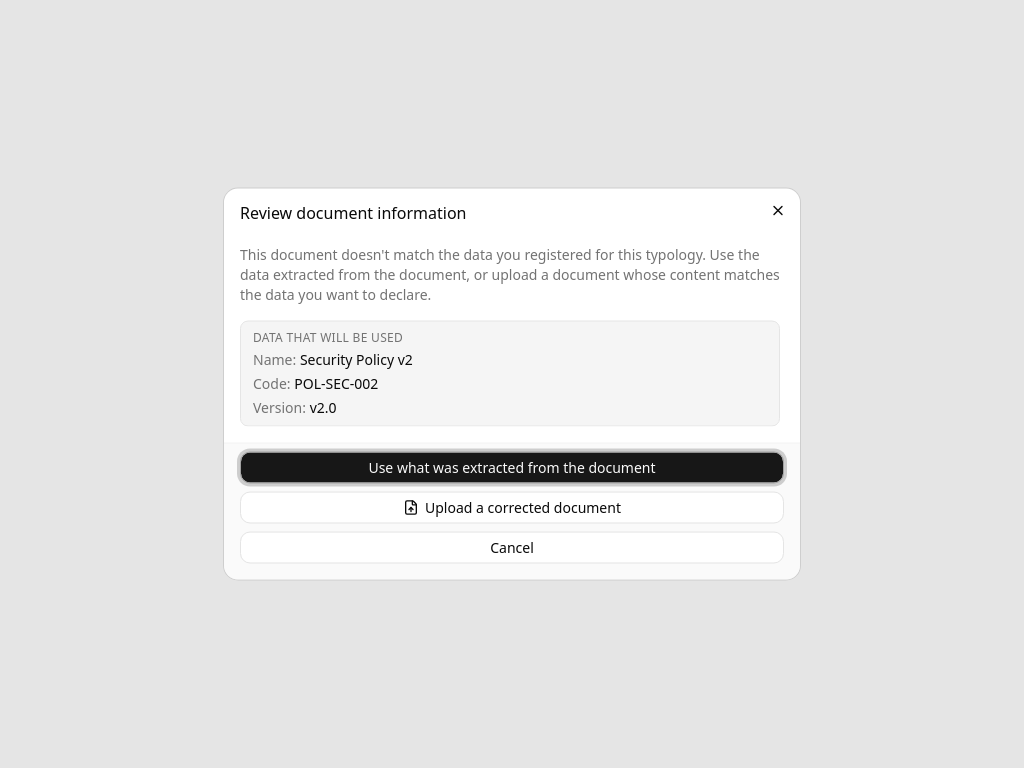
Test: ResolveExtractionDialog › shows the translated error message on a 409 conflict
expect the heading "Review document information" is shown: met, box [240,202,466,224]
Click the button "Use what was extracted from the document": (512, 468) [240,452,784,484]
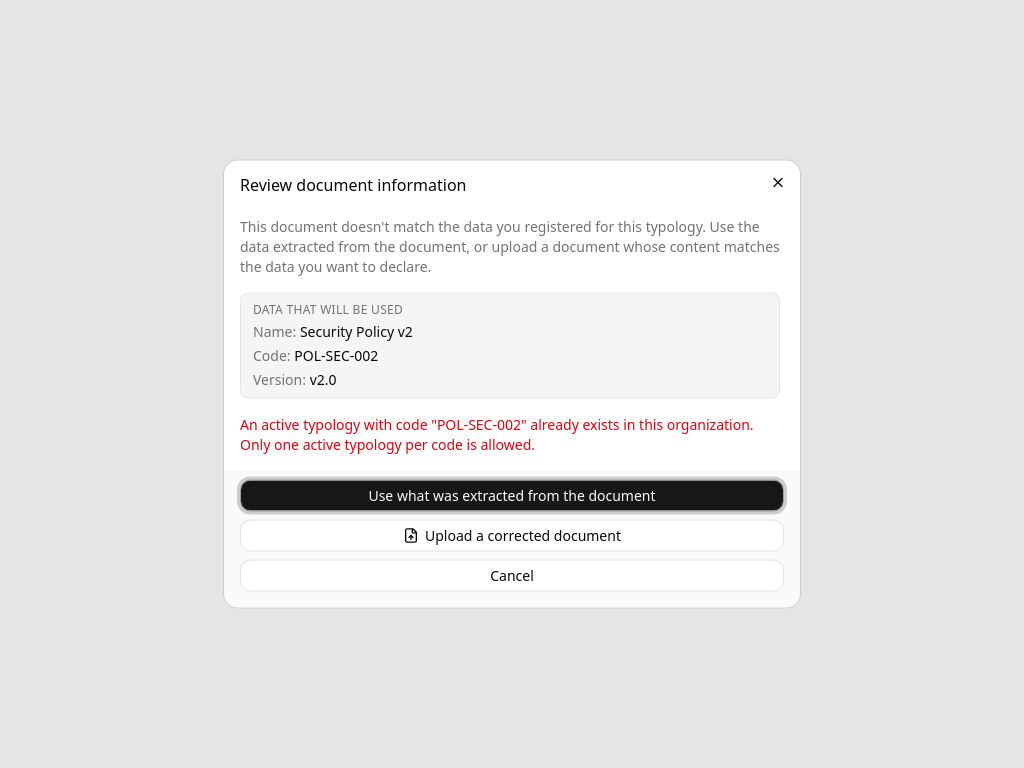
expect the text "An active typology with code \"POL-SEC-002\" already exists in this organization. Only one active typology per code is all" is shown: met, box [240,414,754,454]
